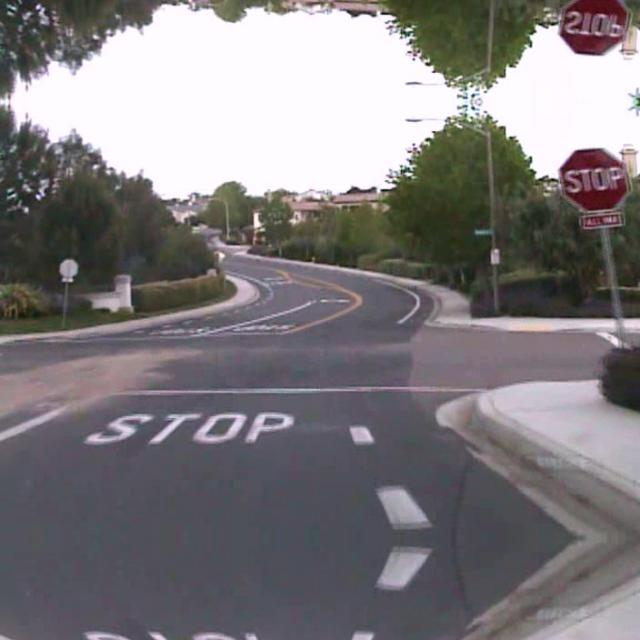stop: (558, 146, 632, 212), (558, 0, 632, 57)
